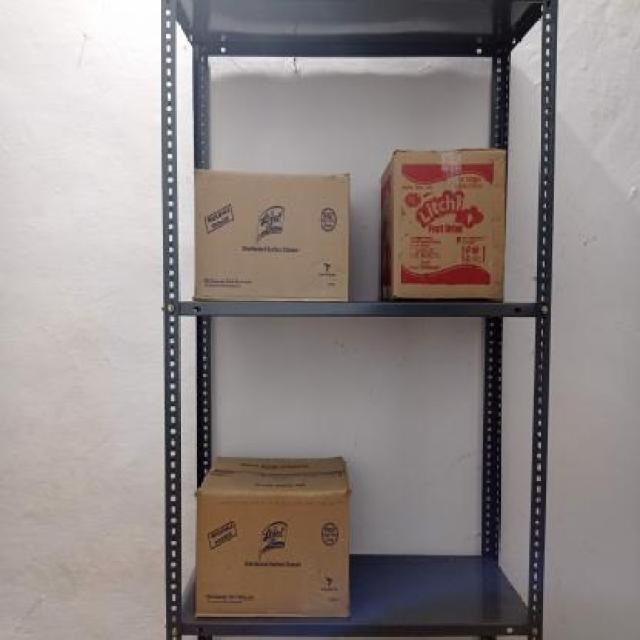box: (193, 168, 350, 302), (194, 486, 348, 619), (390, 146, 507, 302)
